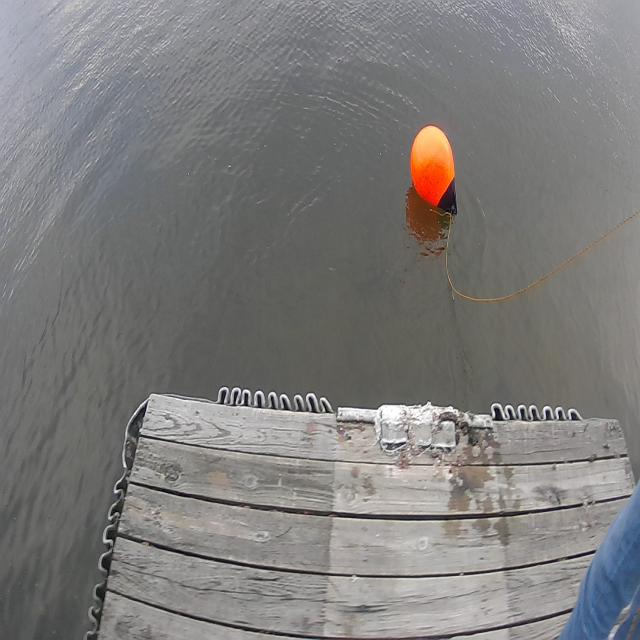Buoy: (410, 120, 460, 220)
